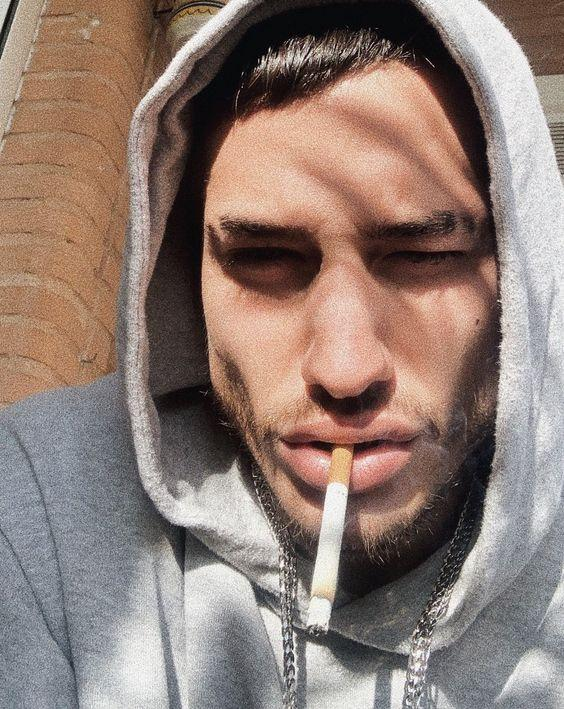cigarette: (304, 443, 355, 638)
